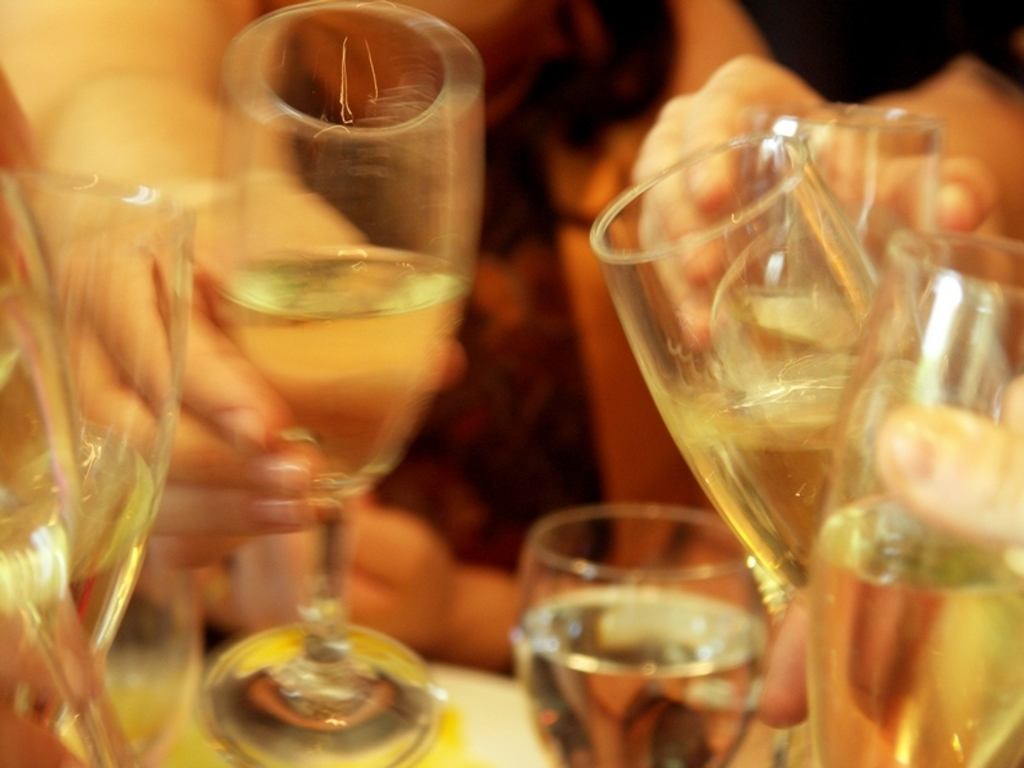Beer: (514, 584, 759, 766)
